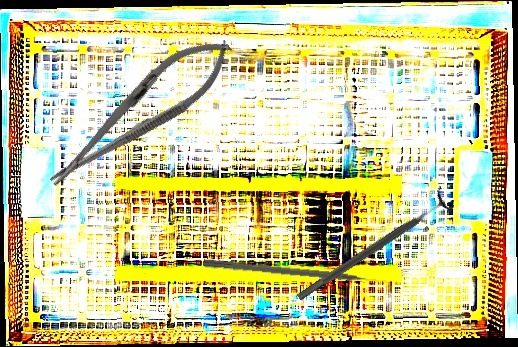Fixation Ring: (290, 185, 456, 309)
Needle Holder: (34, 21, 245, 204)
Pusher: (202, 258, 388, 288)
